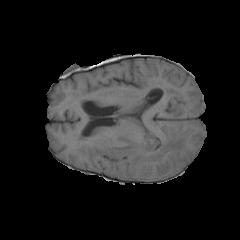glioma: (104, 121, 190, 172)
